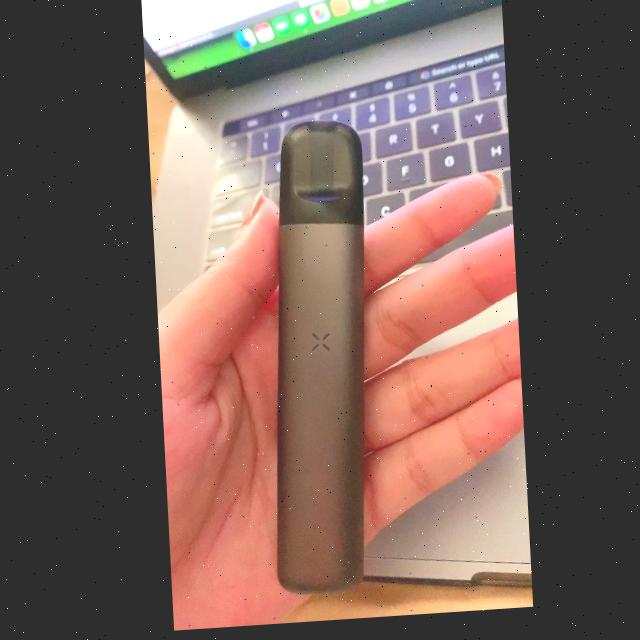vape: (251, 125, 379, 597)
